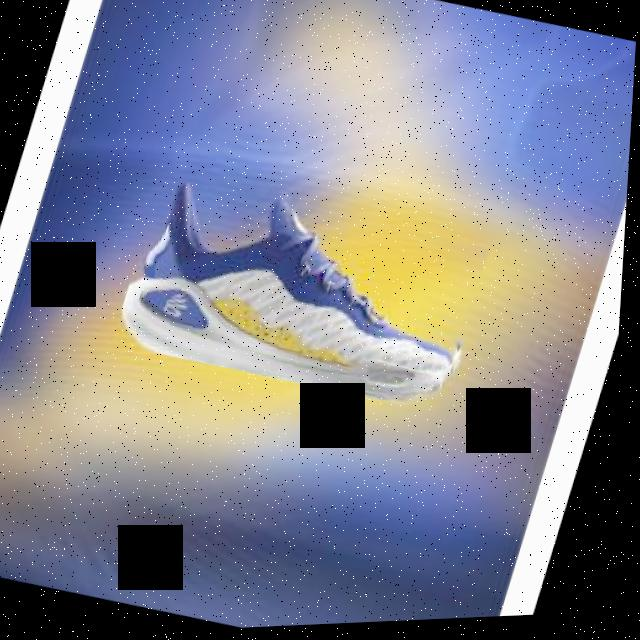shoe: (111, 155, 501, 428)
